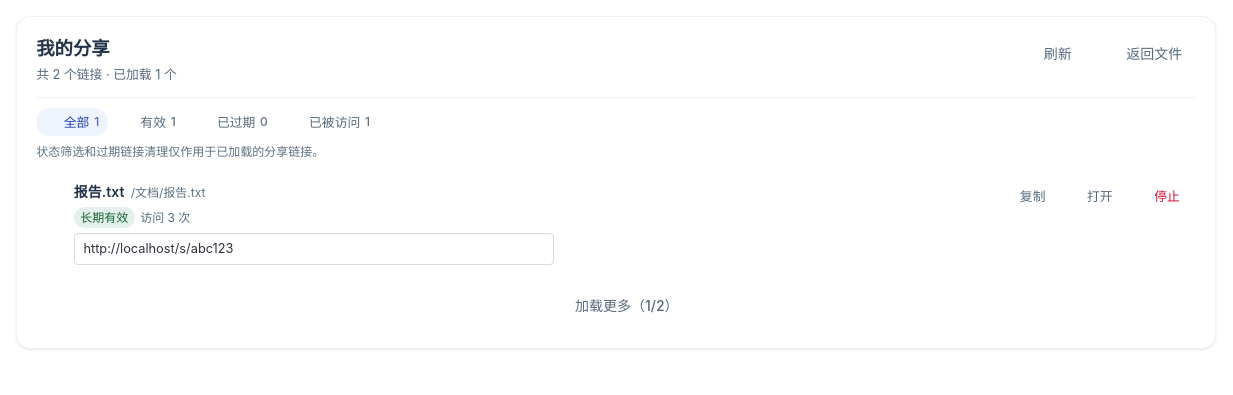
SharedLinks.vue › loads later share pages only when requested
The image size is (1233, 395).
Expected: the text "报告.txt" is shown, [74,181,124,202]
Expected: the text "第二项.txt" is not shown
Step 1. Click the button "加载更多（1/2）" → x=616, y=305, box [540,287,692,323]
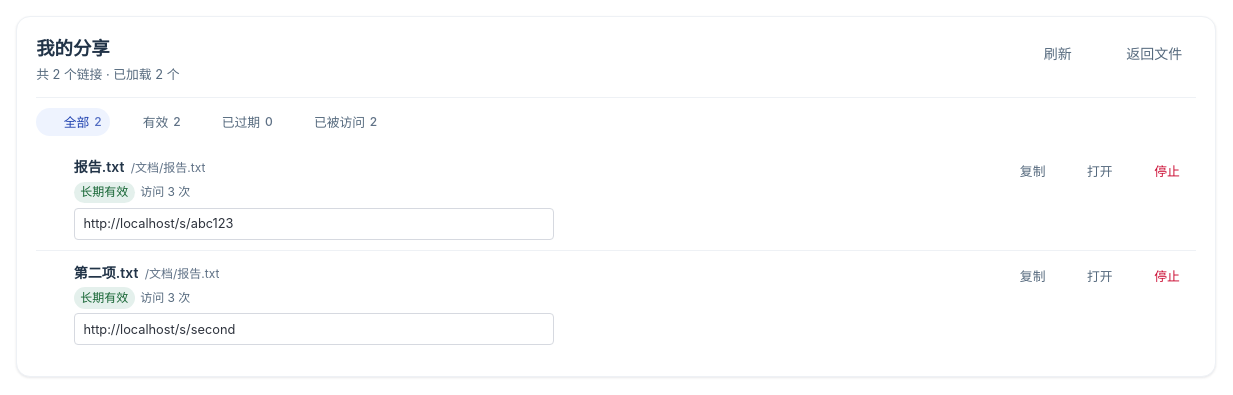
Now the text "第二项.txt" is shown, box [74,262,138,282]
